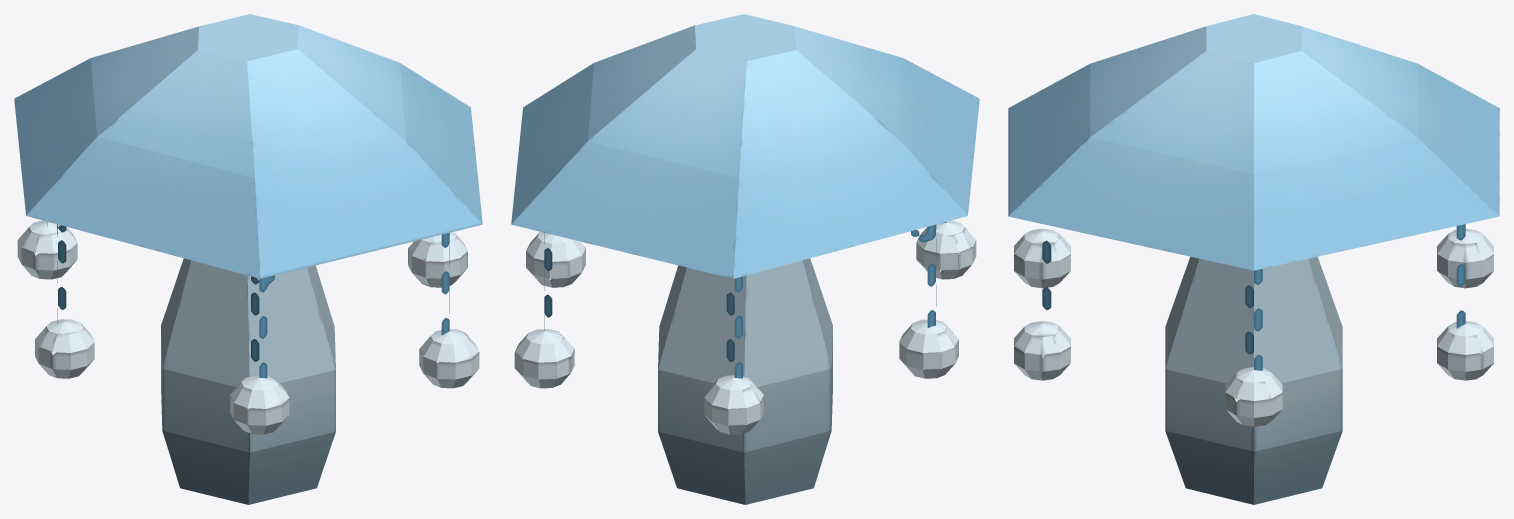
File: frost shroom.fbx
The picture shows the model from 3 angles, left to right: view 1: azimuth 30°, elevation 25°; view 2: azimuth 150°, elevation 25°; view 3: azimuth 270°, elevation 25°; orthographic projection.
Visible parts, largest first — view 1: frostShroom; view 2: frostShroom; view 3: frostShroom.
Boxes of the visible parts, x1=… form: frostShroom: x1=14, y1=14, x2=482, y2=504; frostShroom: x1=511, y1=14, x2=979, y2=504; frostShroom: x1=1008, y1=14, x2=1499, y2=504.
Size of the model in its own units: 46.93 by 43.75 by 45.
Materials: 1 (1 with a texture image).
